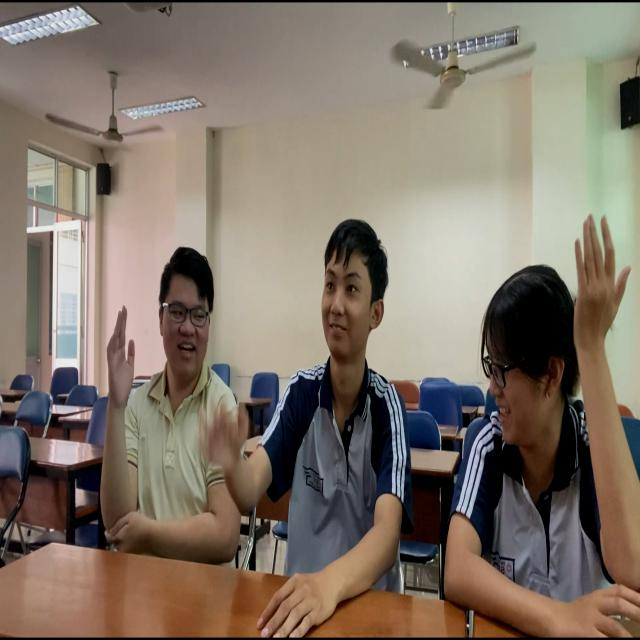raise_hand: (433, 183, 640, 640)
